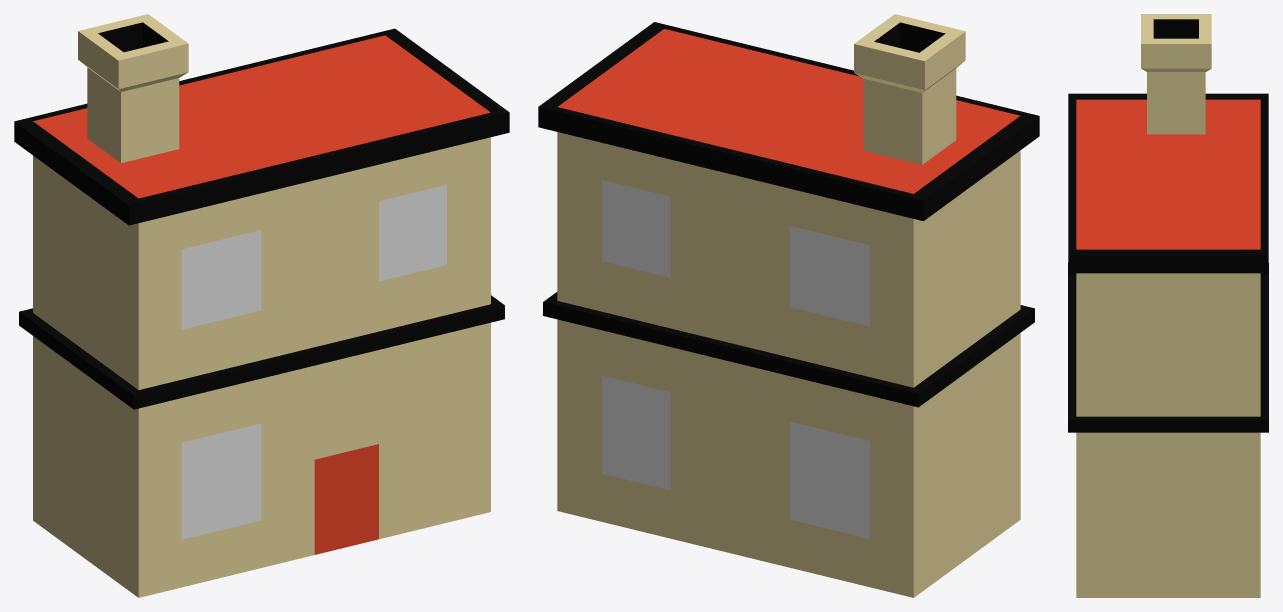
The model's file is HouseForSanta2.fbx.
The picture shows the model from 3 angles, left to right: view 1: azimuth 30°, elevation 25°; view 2: azimuth 150°, elevation 25°; view 3: azimuth 270°, elevation 25°; orthographic projection. The views are drawn at different scales.
Visible parts, largest first — view 1: Cube.002; view 2: Cube.002; view 3: Cube.002.
Part boxes in pixels (<box>): Cube.002: <box>14,14,509,597</box>; Cube.002: <box>538,14,1039,597</box>; Cube.002: <box>1068,14,1268,597</box>.
Bounding box in the file's own units: 416 × 528 × 218.
